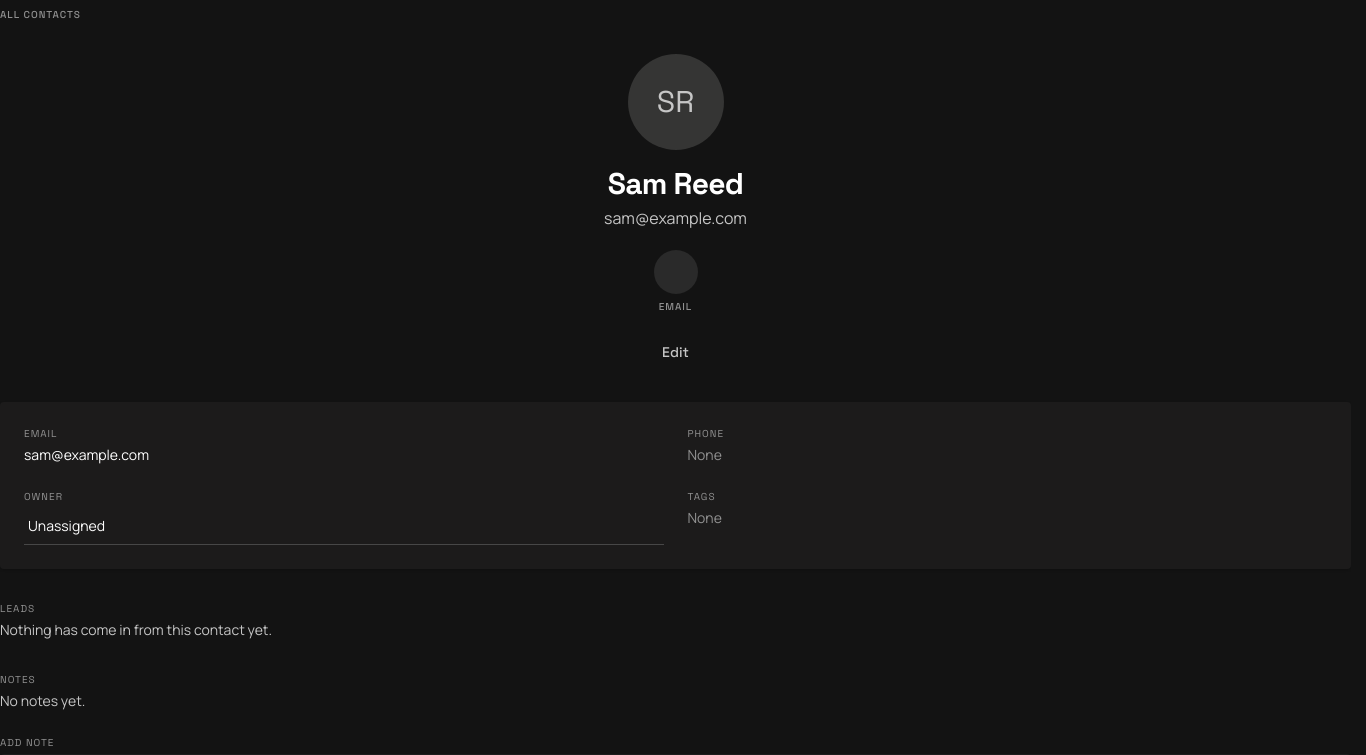
Test: ContactDetail › closes the composer once the message is away
The image size is (1366, 755).
Click the button "Email" at [676, 282], box [650,246,702,318]
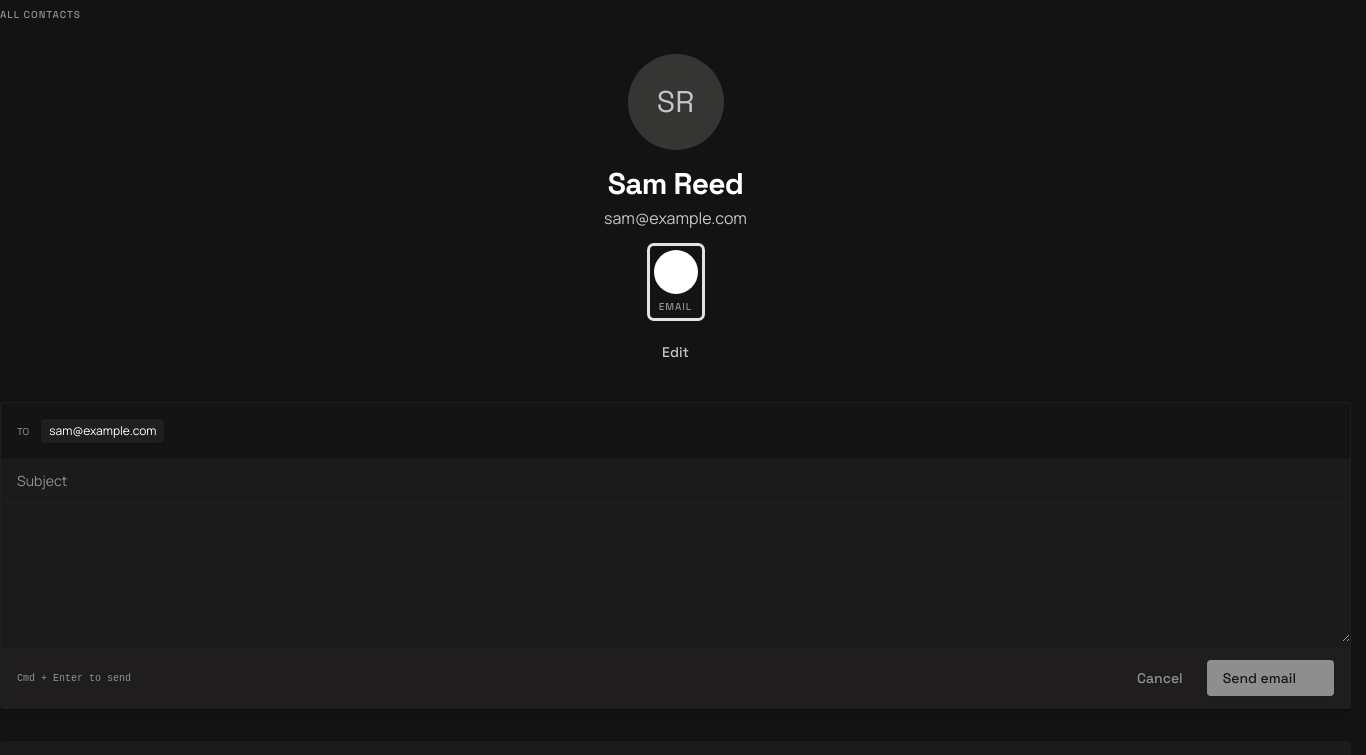
Type "Attached." into the text box named "Message" at [676, 573], box [1,504,1350,642]
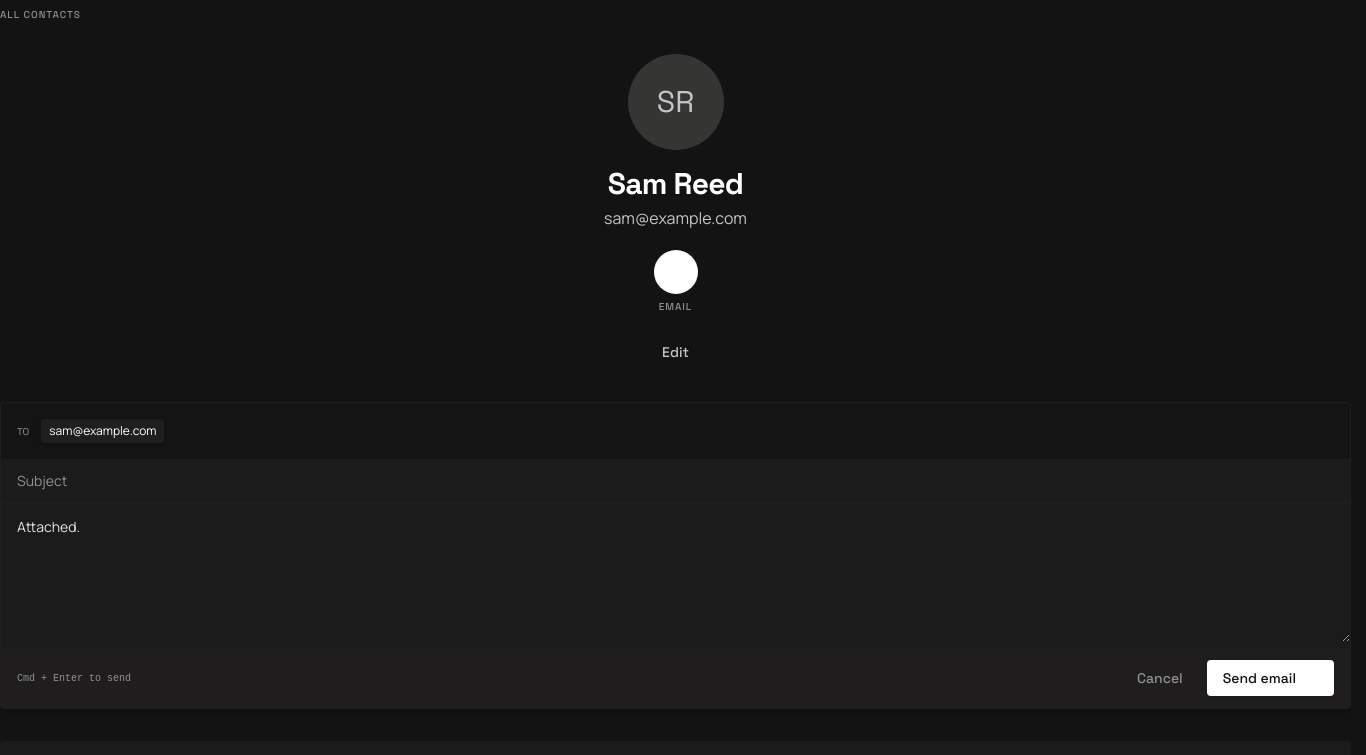
Click the button "Send email" at [1270, 678], box [1207,660,1334,696]
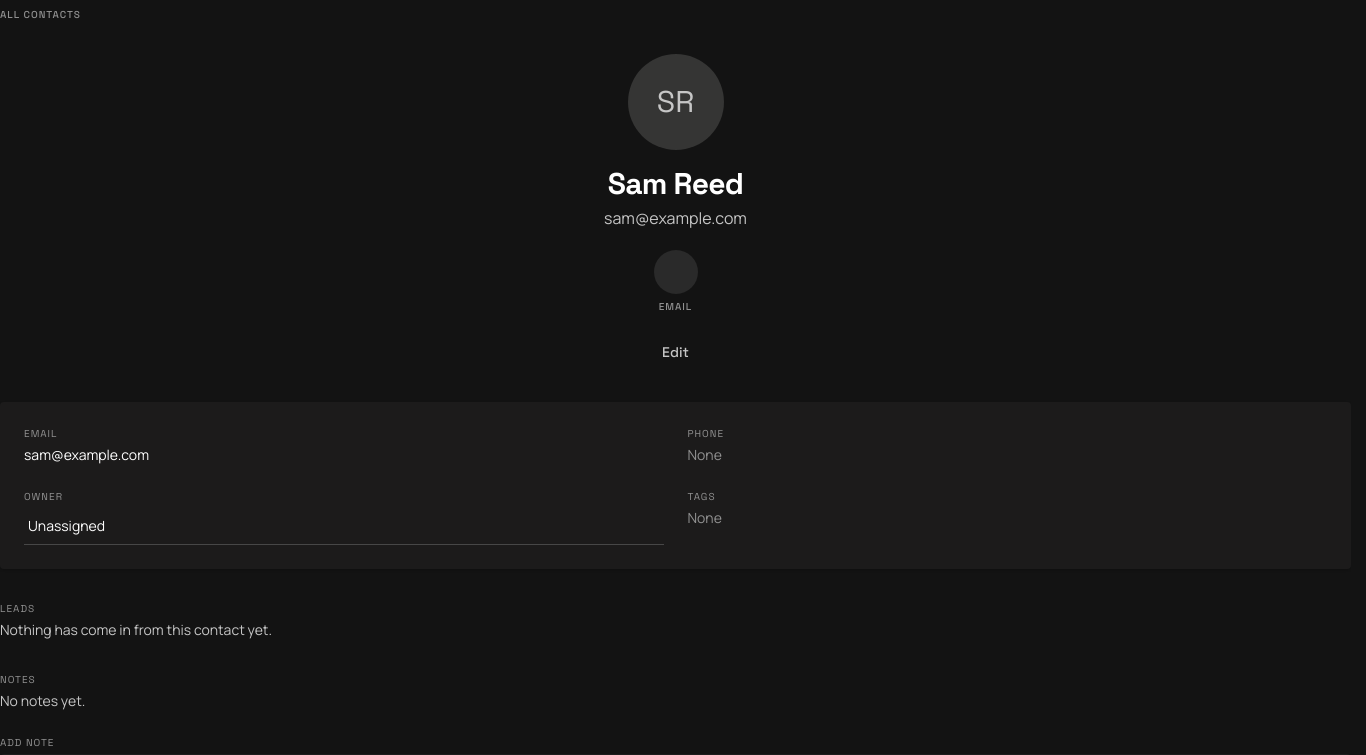
Check: the text box labelled "Message" is gone
